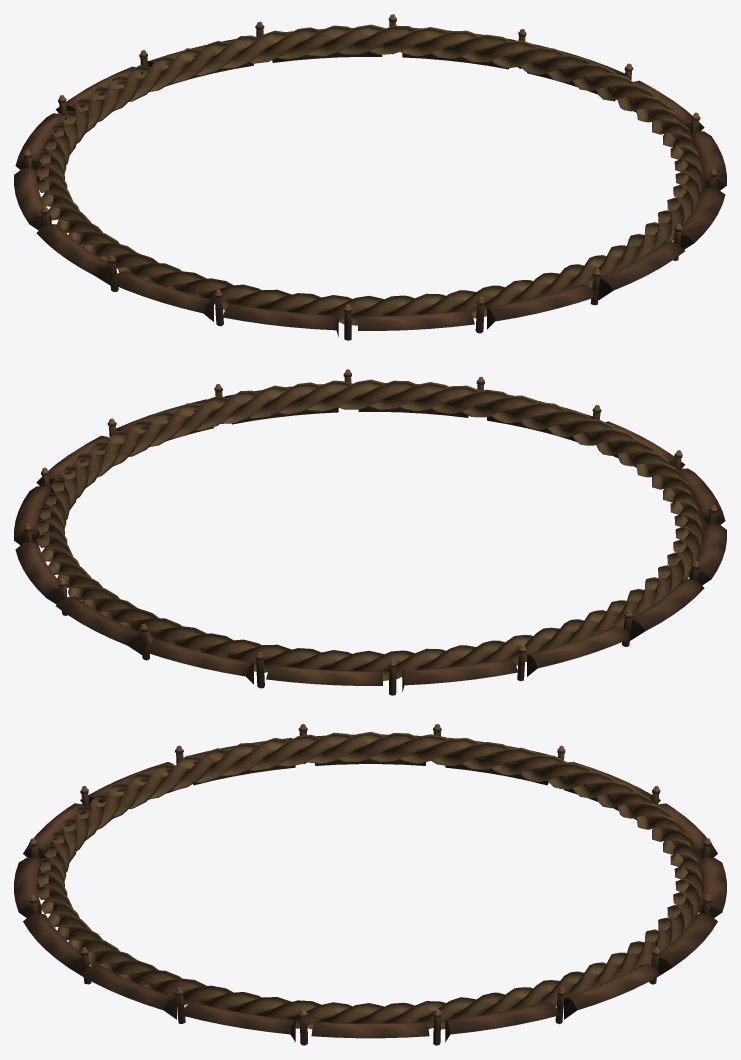
Rendered from gelanggang.glb.
3 views of the same model, one above another, from view 1: azimuth 30°, elevation 25°; view 2: azimuth 150°, elevation 25°; view 3: azimuth 270°, elevation 25° (orthographic).
Visible parts, largest first — view 1: GelRope, GelKerb, GelStakes; view 2: GelRope, GelKerb, GelStakes; view 3: GelRope, GelKerb, GelStakes.
Part boxes in pixels (x1,y1,x2,y2): GelRope: (37, 24, 705, 325); GelKerb: (14, 28, 726, 336); GelStakes: (23, 14, 717, 340); GelRope: (36, 379, 705, 680); GelKerb: (14, 383, 726, 691); GelStakes: (23, 369, 717, 695); GelRope: (37, 732, 705, 1029); GelKerb: (14, 734, 726, 1041); GelStakes: (29, 724, 711, 1045).
Size of the model in its own units: 9.25 by 0.5482 by 9.25.
